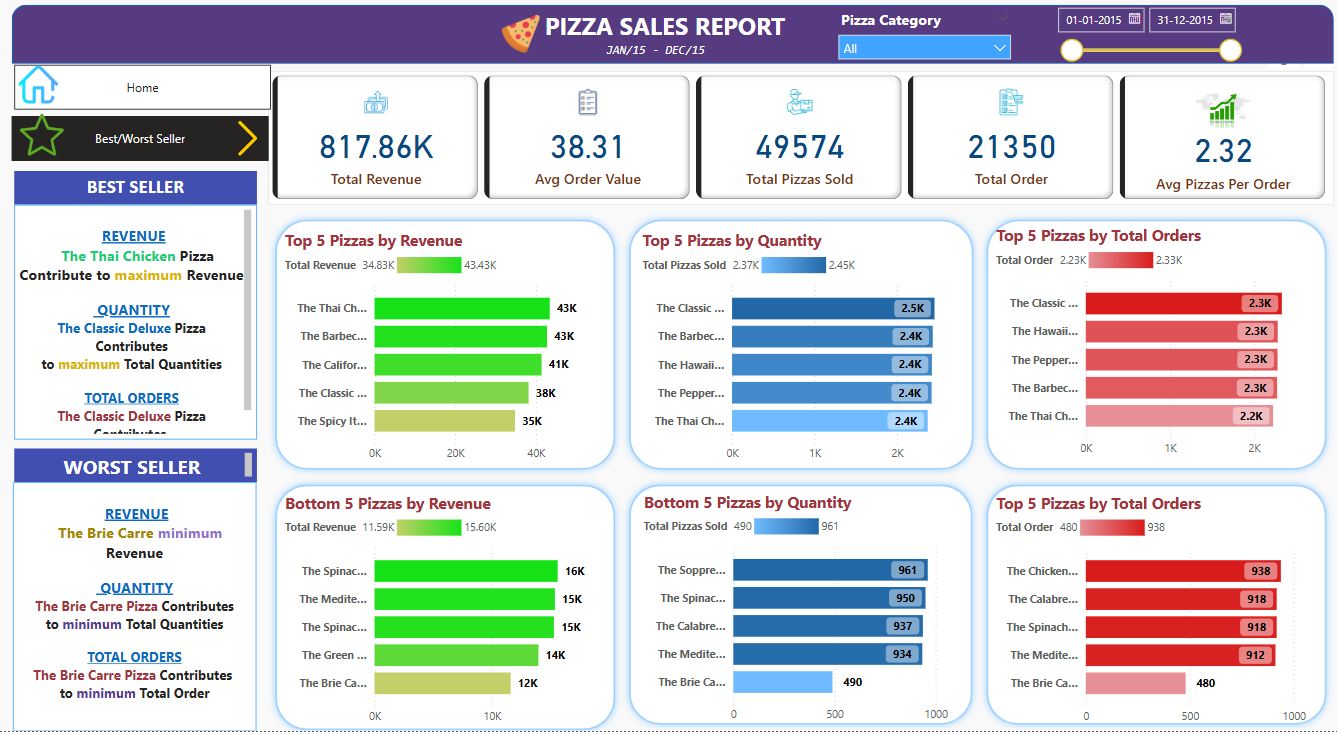

Layout of this report page (visuals, bound fields, positions):
{"tool":"powerbi","page":{"name":"Best/Worst Seller","canvas":[1500,820],"ordinal":1},"visuals":[{"type":"cardVisual","fields":{"Data":["pizza_sales.Total Revenue","pizza_sales.Avg Order Value","pizza_sales.Total Pizzas Sold","pizza_sales.Total Order","pizza_sales.Avg Pizzas Per Order"]},"box":[301.2,83.8,1187.5,148.8],"z":0},{"type":"shape","box":[15.7,10,1472.9,65.7],"z":1000},{"type":"textbox","box":[597.5,10,291.2,50],"z":2000},{"type":"textbox","box":[672.5,46.2,132.5,28.8],"z":3000},{"type":"image","box":[555,10,53.8,65],"z":4000},{"type":"shape","box":[301.2,241.2,395,295],"z":5000},{"type":"textbox","box":[17.5,195,270,37.5],"z":15000},{"type":"textbox","box":[17.5,232.5,270,261.2],"z":16000},{"type":"textbox","box":[17.5,503.8,270,37.5],"z":17000},{"type":"textbox","box":[16.2,541.2,271.2,277.5],"z":18000},{"type":"slicer","fields":{"Values":["pizza_sales.pizza_category"]},"box":[926.2,10,212.5,65],"z":19000},{"type":"slicer","fields":{"Values":["pizza_sales.order_date"]},"box":[1168.8,2.5,226.2,73.8],"z":20000},{"type":"shape","box":[695,241.2,400,295],"z":20001},{"type":"shape","box":[1093.8,241.2,395,295],"z":20002},{"type":"shape","box":[301.2,536.2,395,290],"z":20003},{"type":"shape","box":[695,536.2,398.8,283.8],"z":20004},{"type":"shape","box":[1093.8,536.2,395,283.8],"z":20005},{"type":"barChart","title":"Top 5 Pizzas by Revenue","fields":{"Category":["pizza_sales.pizza_name"],"Y":["pizza_sales.Total Revenue"]},"box":[315,260,366.2,267.5],"z":20006},{"type":"barChart","title":"Bottom 5 Pizzas by Revenue","fields":{"Category":["pizza_sales.pizza_name"],"Y":["pizza_sales.Total Revenue"]},"box":[315,552.5,366.2,267.5],"z":20008},{"type":"barChart","title":"Top 5 Pizzas by Quantity","fields":{"Category":["pizza_sales.pizza_name"],"Y":["pizza_sales.Total Pizzas Sold"]},"box":[712.5,260,367.5,267.5],"z":20009},{"type":"barChart","title":"Bottom 5 Pizzas by Quantity","fields":{"Category":["pizza_sales.pizza_name"],"Y":["pizza_sales.Total Pizzas Sold"]},"box":[713.8,551.2,366.2,267.5],"z":20010},{"type":"barChart","title":"Top 5 Pizzas by Total Orders","fields":{"Category":["pizza_sales.pizza_name"],"Y":["pizza_sales.Total Order"]},"box":[1107.5,255,367.5,267.5],"z":20011},{"type":"barChart","title":"Top 5 Pizzas by Total Orders","fields":{"Category":["pizza_sales.pizza_name"],"Y":["pizza_sales.Total Order"]},"box":[1107.5,552.5,367.5,267.5],"z":20012},{"type":"pageNavigator","box":[15,133.8,286.2,50],"z":20013},{"type":"pageNavigator","box":[17.5,76.2,286.2,50],"z":20014},{"type":"image","box":[17.5,71.2,53.8,55],"z":20015},{"type":"image","box":[253.8,133.8,50,50],"z":20016},{"type":"image","box":[17.5,125,61.2,58.8],"z":20017}]}

Visuals, with their boxes in screenshot pixels (x1, y1, x2, y2), scaled from the page's 1500x820 canvas onto the 1337x732 screenshot:
cardVisual - pizza_sales.Total Revenue x pizza_sales.Avg Order Value: region(268, 75, 1327, 208)
shape: region(14, 9, 1327, 68)
textbox: region(533, 9, 792, 54)
textbox: region(599, 41, 718, 67)
image: region(495, 9, 543, 67)
shape: region(268, 215, 621, 479)
textbox: region(16, 174, 256, 208)
textbox: region(16, 208, 256, 441)
textbox: region(16, 450, 256, 483)
textbox: region(14, 483, 256, 731)
slicer - pizza_sales.pizza_category: region(826, 9, 1015, 67)
slicer - pizza_sales.order_date: region(1042, 2, 1243, 68)
shape: region(619, 215, 976, 479)
shape: region(975, 215, 1327, 479)
shape: region(268, 479, 621, 731)
shape: region(619, 479, 975, 731)
shape: region(975, 479, 1327, 731)
"Top 5 Pizzas by Revenue" barChart: region(281, 232, 607, 471)
"Bottom 5 Pizzas by Revenue" barChart: region(281, 493, 607, 731)
"Top 5 Pizzas by Quantity" barChart: region(635, 232, 963, 471)
"Bottom 5 Pizzas by Quantity" barChart: region(636, 492, 963, 731)
"Top 5 Pizzas by Total Orders" barChart: region(987, 228, 1315, 466)
"Top 5 Pizzas by Total Orders" barChart: region(987, 493, 1315, 731)
pageNavigator: region(13, 119, 268, 164)
pageNavigator: region(16, 68, 271, 113)
image: region(16, 64, 64, 113)
image: region(226, 119, 271, 164)
image: region(16, 112, 70, 164)
